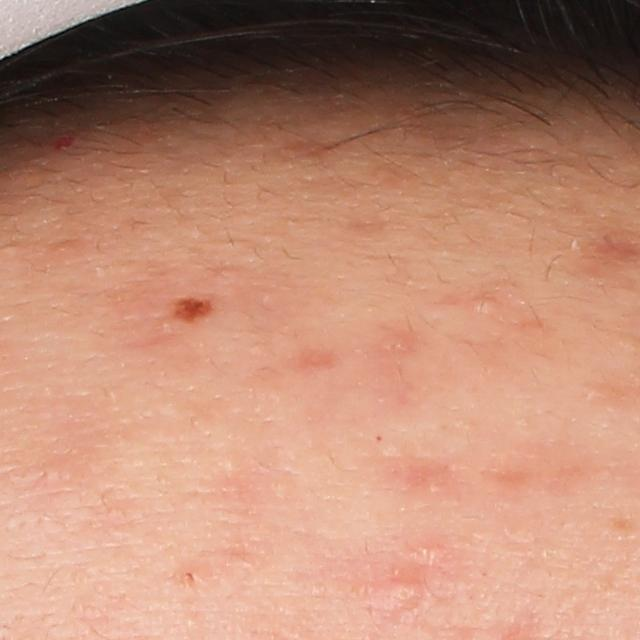nevus: (177, 297, 214, 323)
